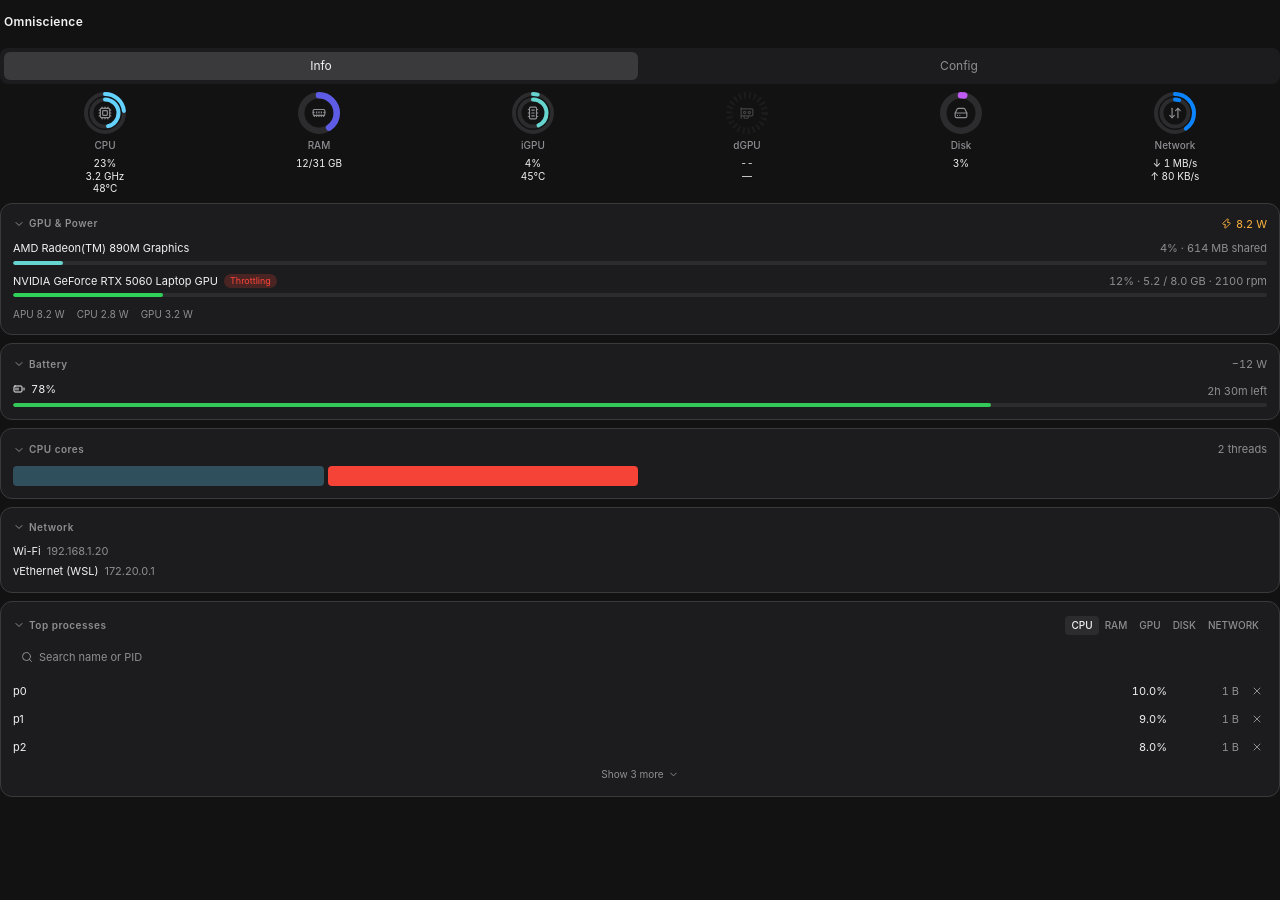
Scenario: Dashboard › shows the top 3 processes with a toggle for the rest
Expected: the number of list items is 3, [13,677,1267,705]; [13,705,1267,733]; [13,733,1267,761]
What coordinates should you click on to do the following:
click the button "Show 3 more"
I would click on:
 (640, 775)
Its box is [13,765,1267,784].
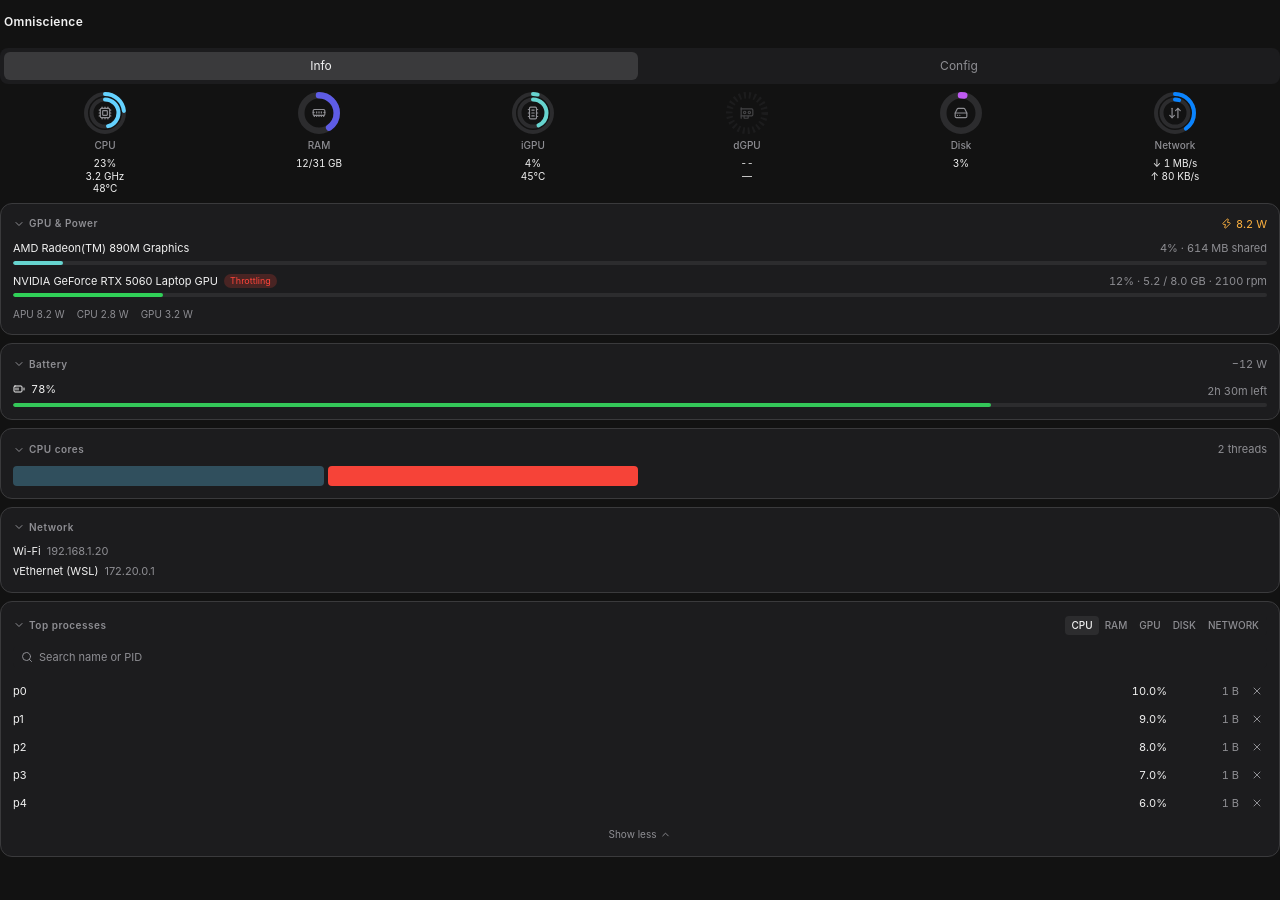
Result: the number of list items is 6
What coordinates should you click on to do the following:
click the button "Show less"
I would click on:
 (640, 835)
Its box is [13,825,1267,844].
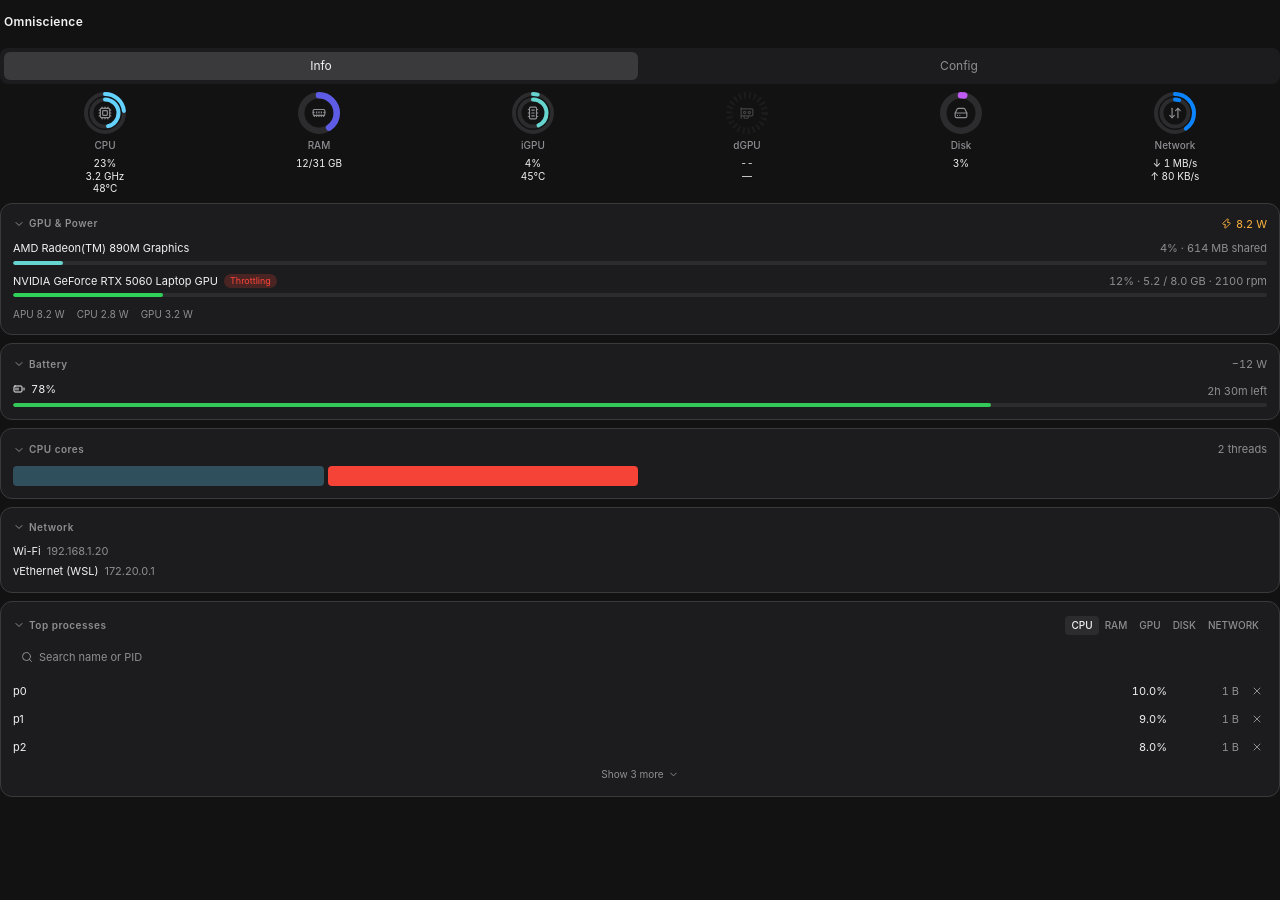
Result: the number of list items is 3 at [13,677,1267,705]; [13,705,1267,733]; [13,733,1267,761]
